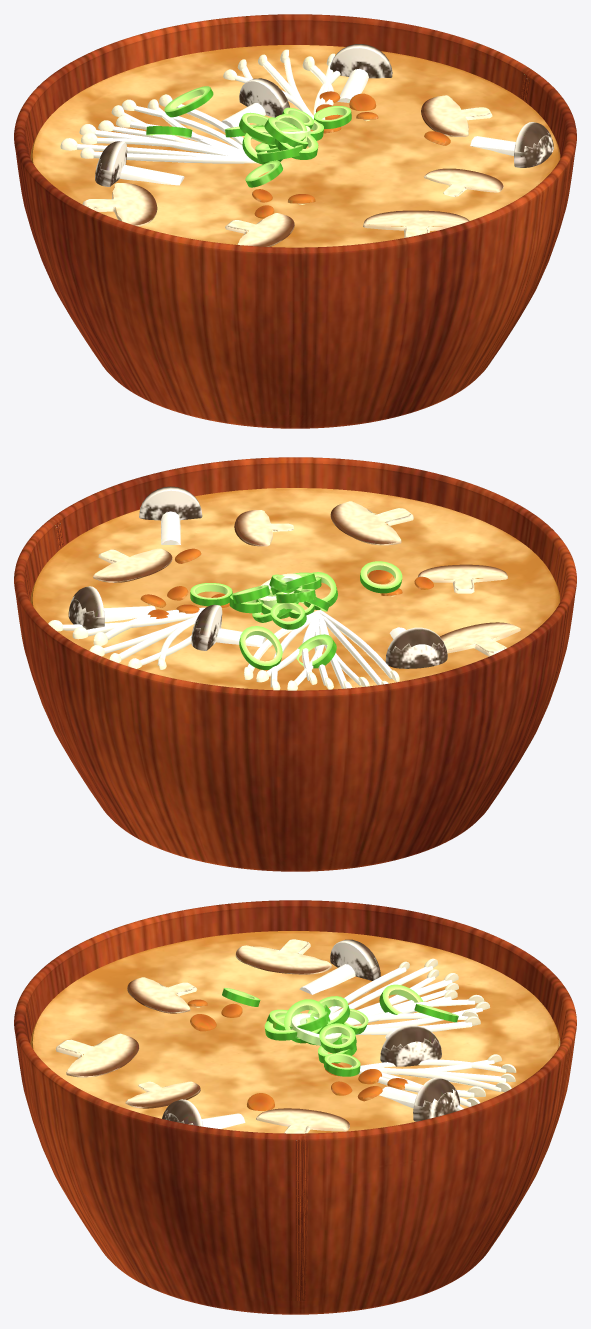
Rendered from miso_soup_lite.glb.
3 renders of one model, top to bottom at view 1: azimuth 30°, elevation 25°; view 2: azimuth 150°, elevation 25°; view 3: azimuth 270°, elevation 25°, orthographic.
Visible parts, largest first — view 1: ing_base, ing_dashi, ing_enoki, ing_shiitake, ing_shimeji, ing_scallion, ing_nameko; view 2: ing_base, ing_dashi, ing_shiitake, ing_enoki, ing_shimeji, ing_scallion, ing_nameko; view 3: ing_base, ing_dashi, ing_shiitake, ing_enoki, ing_shimeji, ing_scallion, ing_nameko.
Part boxes in pixels (x1,y1,x2,y2): ing_base: [14, 14, 576, 428]; ing_dashi: [30, 45, 560, 247]; ing_enoki: [60, 49, 340, 163]; ing_shiitake: [82, 95, 503, 246]; ing_shimeji: [95, 44, 553, 186]; ing_scallion: [146, 86, 351, 187]; ing_nameko: [252, 91, 450, 218]; ing_base: [14, 457, 576, 871]; ing_dashi: [30, 488, 560, 690]; ing_shiitake: [93, 501, 520, 656]; ing_enoki: [48, 607, 399, 690]; ing_shimeji: [68, 486, 447, 668]; ing_scallion: [190, 561, 402, 670]; ing_nameko: [140, 548, 433, 618]; ing_base: [14, 900, 576, 1314]; ing_dashi: [30, 931, 560, 1133]; ing_shiitake: [55, 939, 349, 1133]; ing_enoki: [328, 958, 516, 1110]; ing_shimeji: [162, 939, 459, 1128]; ing_scallion: [222, 984, 458, 1076]; ing_nameko: [187, 999, 407, 1110].
Bounding box in the file's own units: 0.118 × 0.0522 × 0.118.
Materials: 1 (1 with a texture image).
